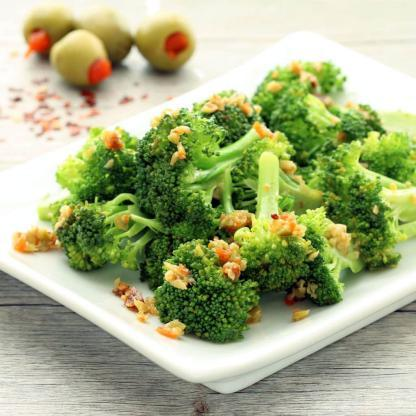broccoli: (36, 56, 416, 346)
